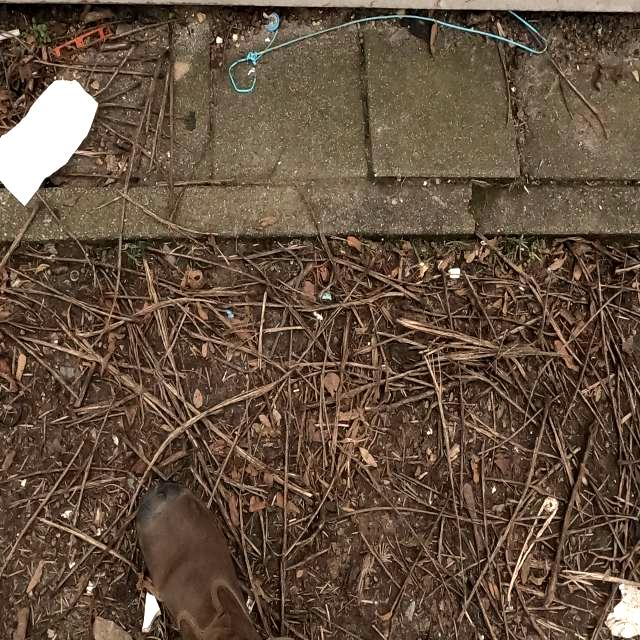Paper: (0, 76, 100, 210)
